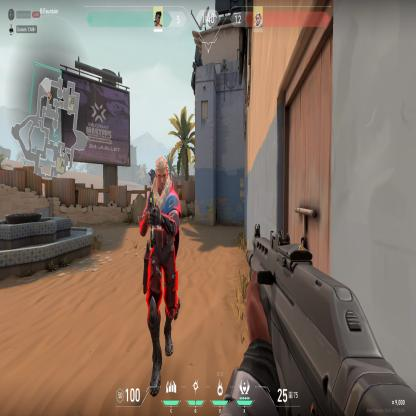enemy: (135, 154, 182, 376)
